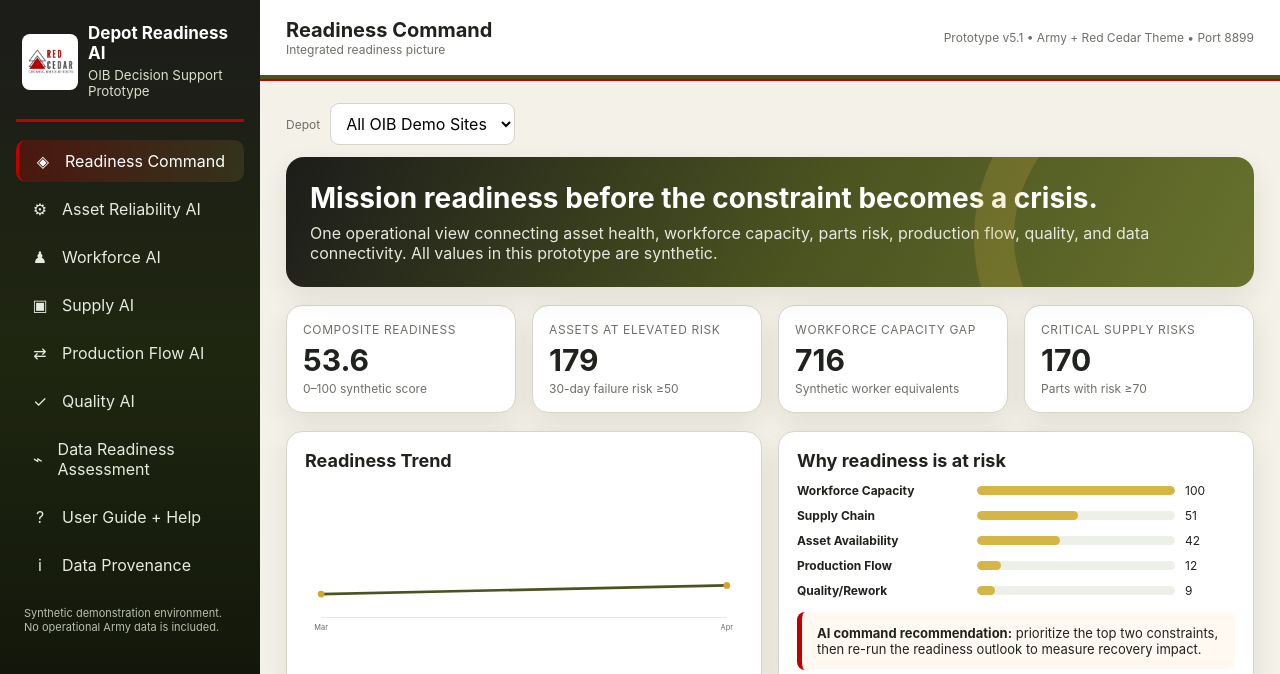
Test: Depot Readiness React UI › keeps every legacy module reachable from the same navigation flow
Expected: the heading "Mission readiness before the constraint becomes a crisis." is shown, [310,181,1230,215]
Click the button "♟ Workforce AI" at (130, 257), box [16,236,244,278]
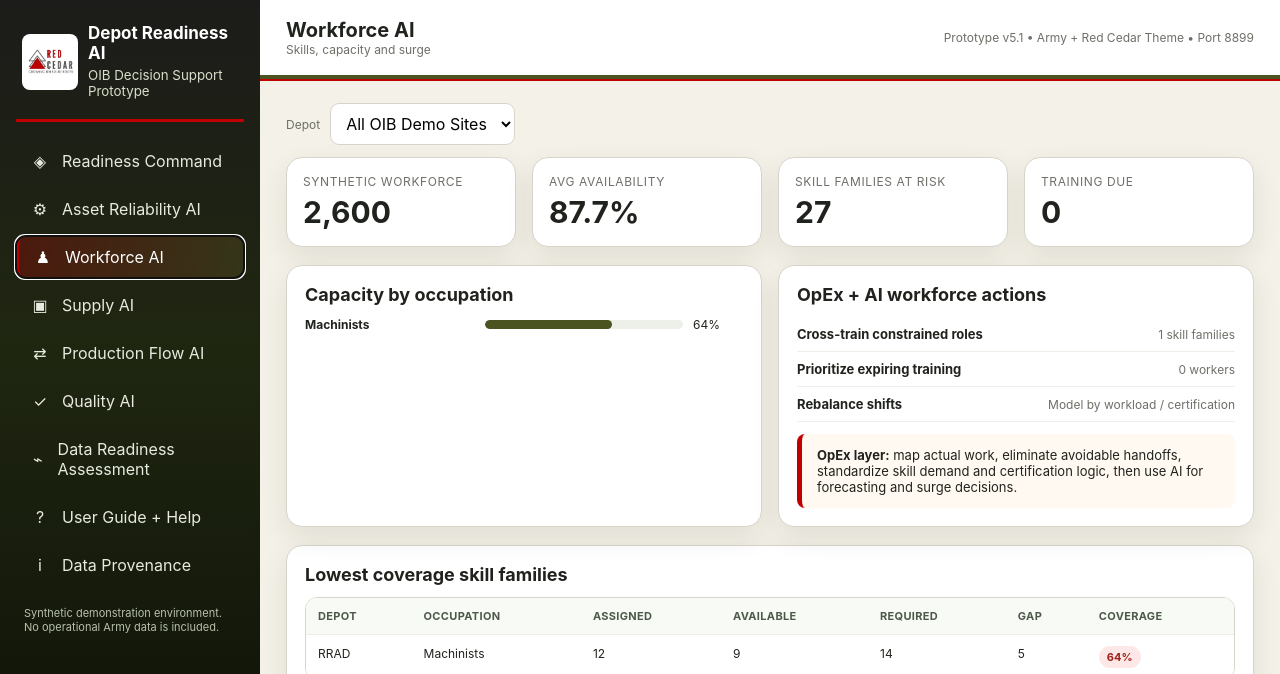
Now the heading "Capacity by occupation" is shown, box [305,284,514,305]
Click the button "▣ Supply AI" at (130, 305), box [16,284,244,326]
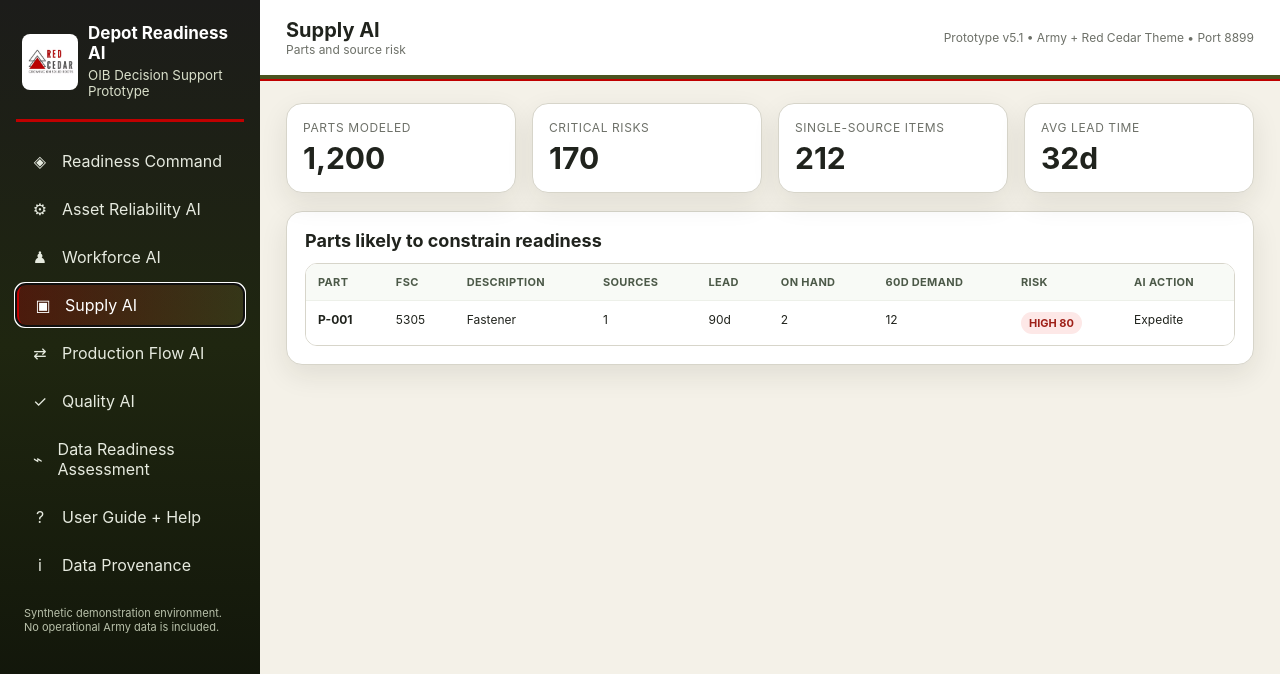
Now the heading "Parts likely to constrain readiness" is shown, box [305,230,602,251]
Click the button "✓ Quality AI" at (130, 401), box [16,380,244,422]
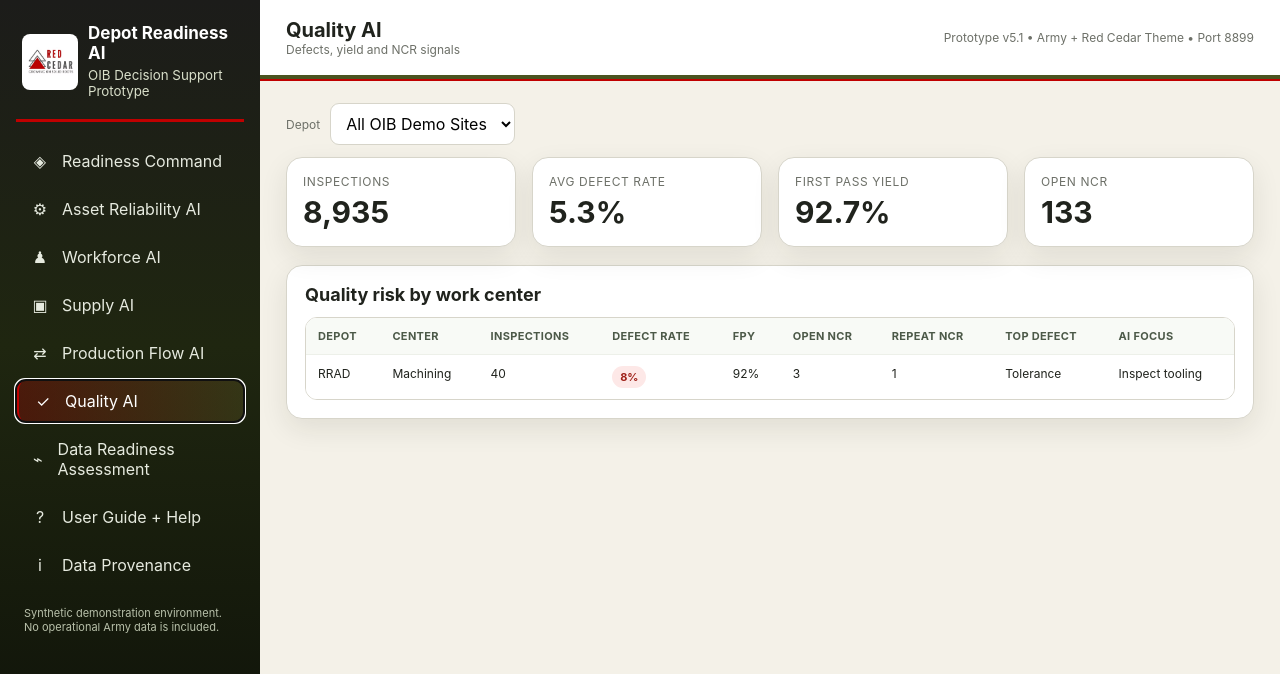
Now the heading "Quality risk by work center" is shown, box [305,284,541,305]
Click the button "⌁ Data Readiness Assessment" at (130, 459), box [16,428,244,490]
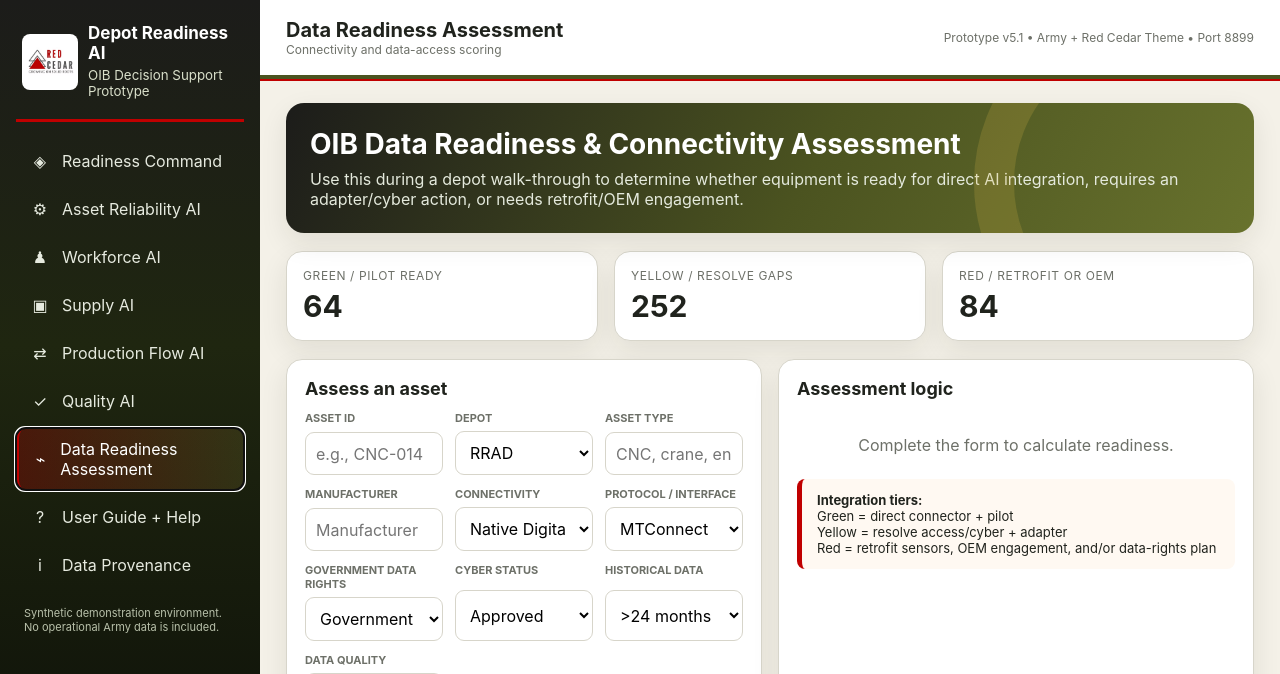
Now the heading "Assess an asset" is shown, box [305,378,447,399]
Click the button "? User Guide + Help" at (130, 517), box [16,496,244,538]
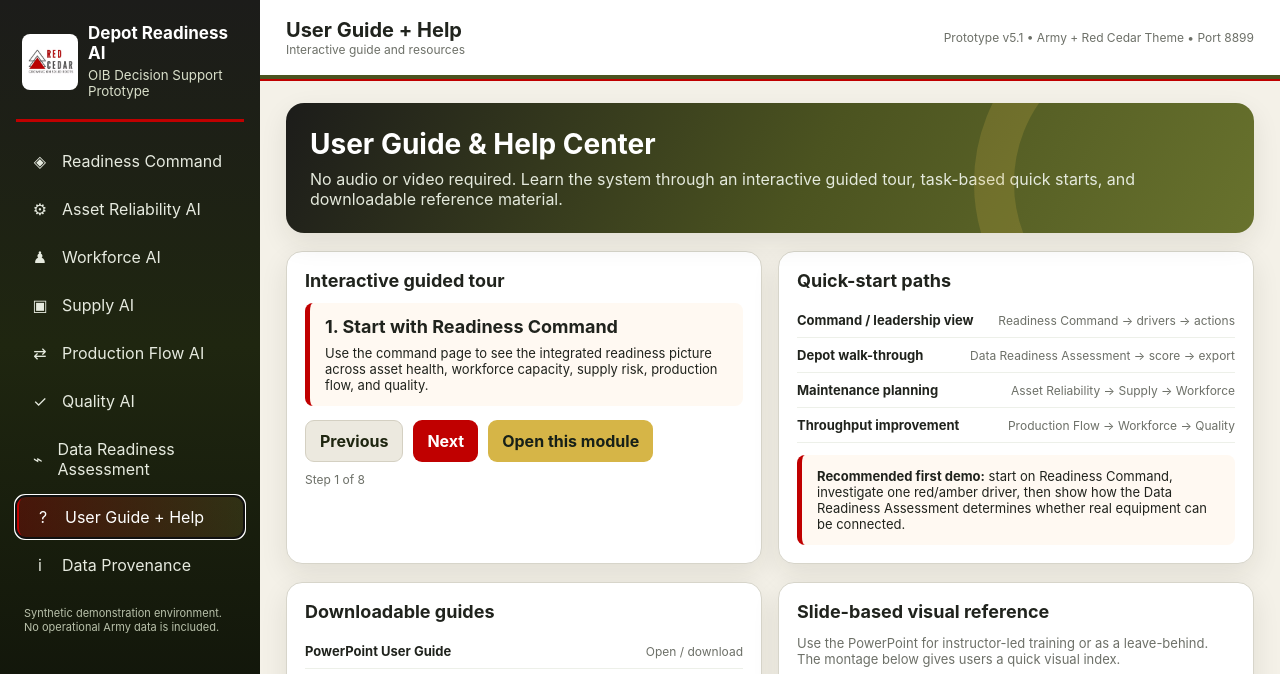
Now the heading "Interactive guided tour" is shown, box [305,270,505,291]
Click the button "i Data Provenance" at (130, 565), box [16,544,244,586]
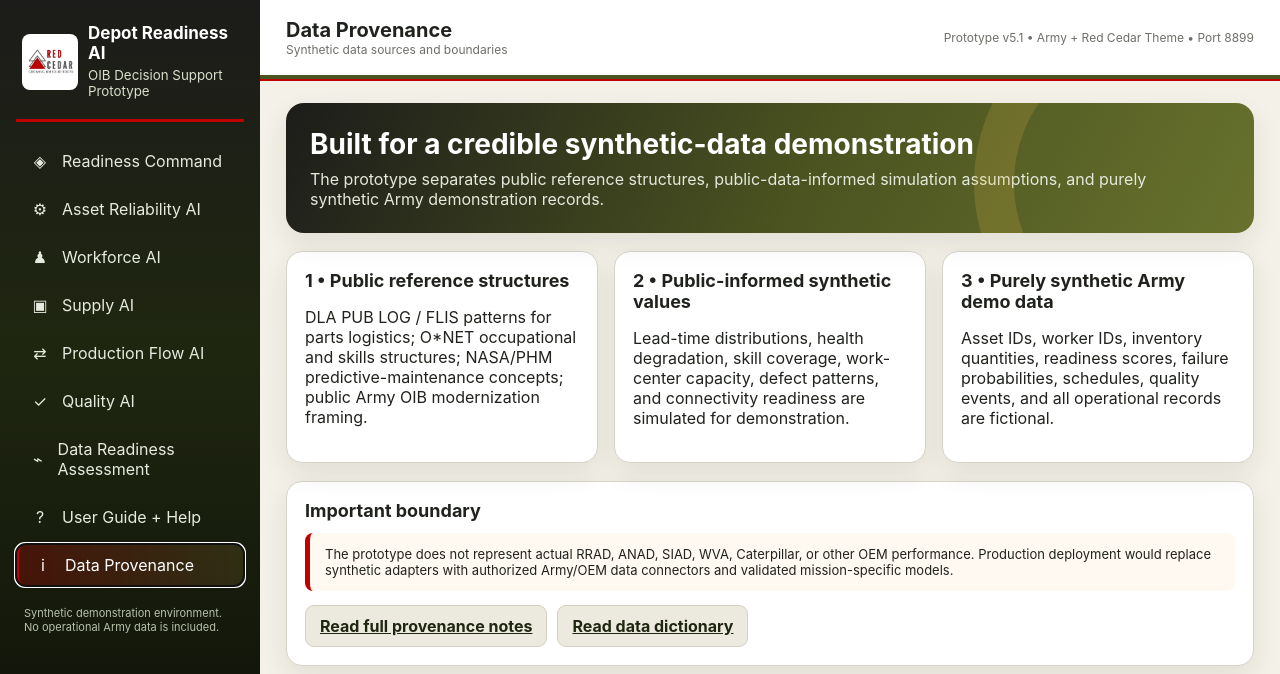
Now the heading "Important boundary" is shown, box [305,500,481,521]
